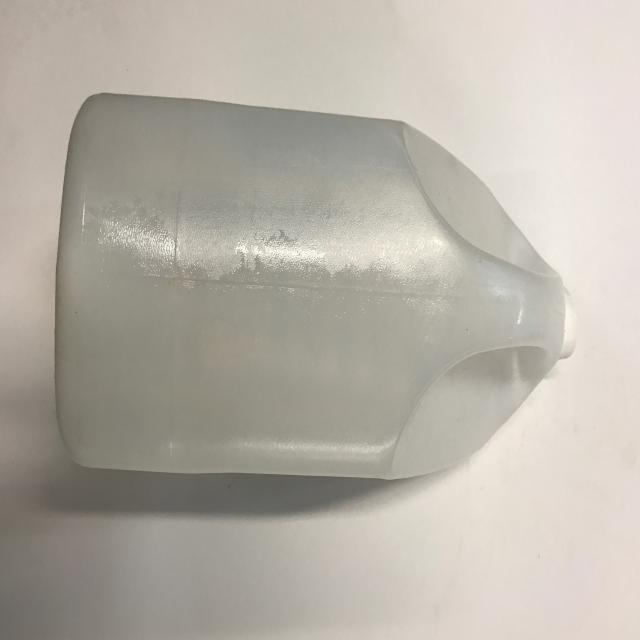plastic: (54, 90, 576, 481)
